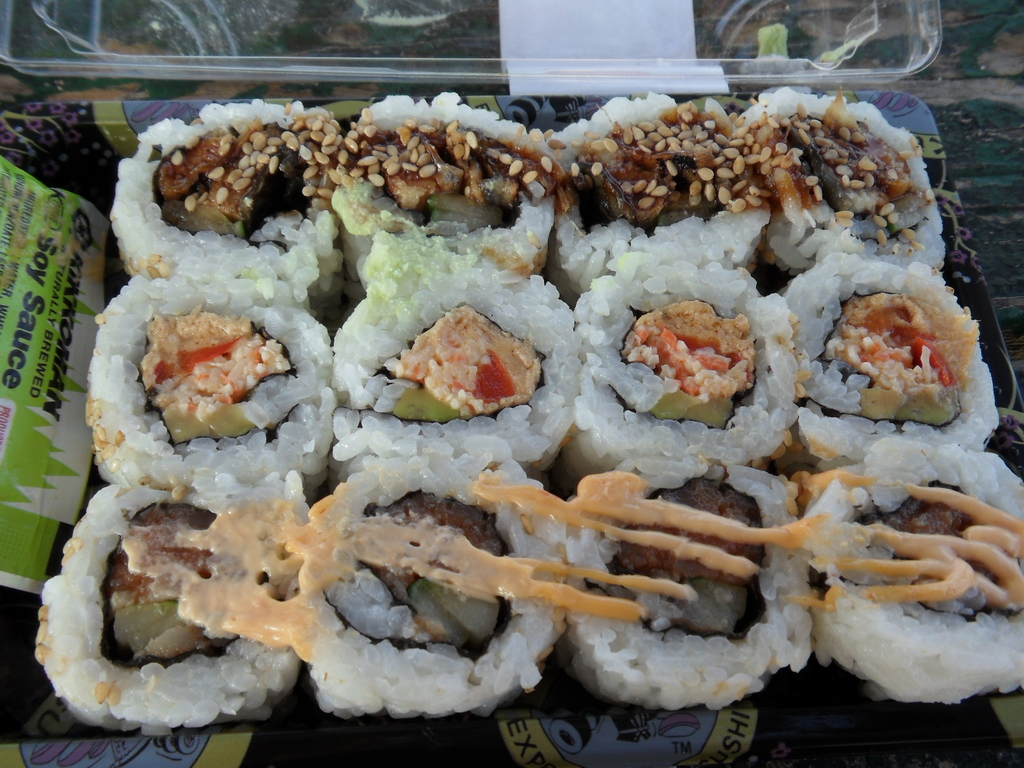sushi: (36, 93, 1023, 733), (120, 106, 349, 300), (810, 276, 977, 431)
